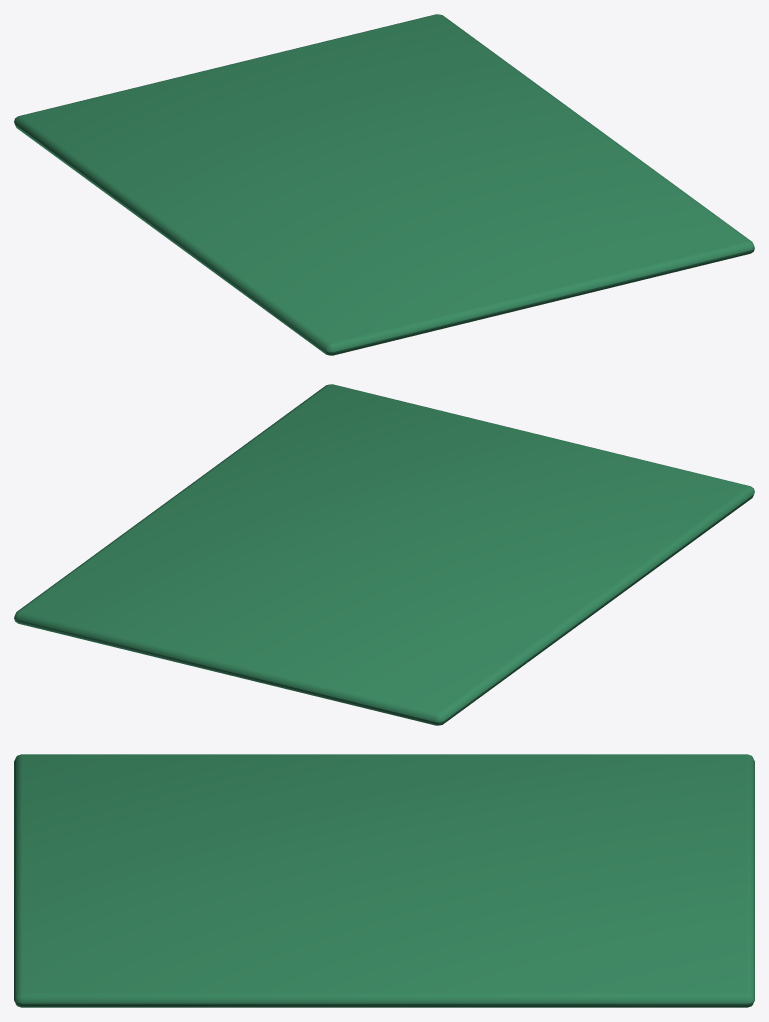
File: GEO_CROSSOVER_Hood.glb
The picture shows the model from 3 angles, top to bottom: view 1: azimuth 30°, elevation 25°; view 2: azimuth 150°, elevation 25°; view 3: azimuth 270°, elevation 25°; orthographic projection. The views are drawn at different scales.
Visible parts, largest first — view 1: GEO_CROSSOVER_Hood; view 2: GEO_CROSSOVER_Hood; view 3: GEO_CROSSOVER_Hood.
Boxes of the visible parts, box(x1,y1,x2,y2) form: GEO_CROSSOVER_Hood: box(14, 14, 754, 355); GEO_CROSSOVER_Hood: box(14, 384, 754, 725); GEO_CROSSOVER_Hood: box(14, 754, 754, 1007).
Size of the model in its own units: 1.43 by 0.04 by 1.83.
